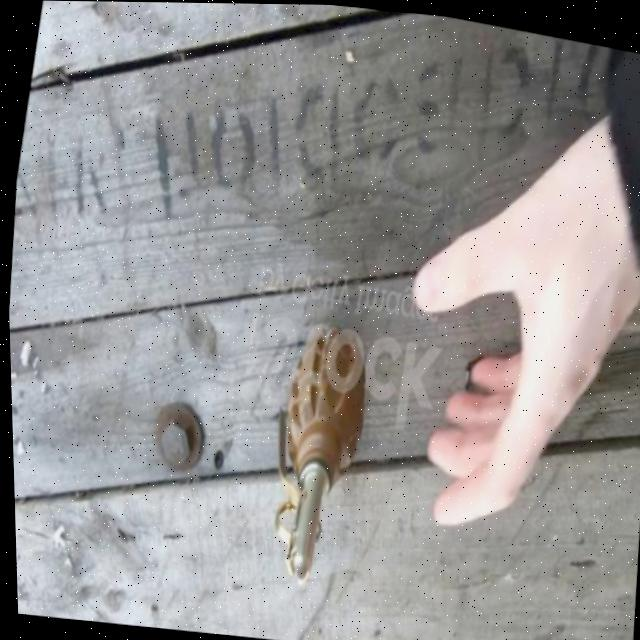grenade: (245, 316, 378, 590)
